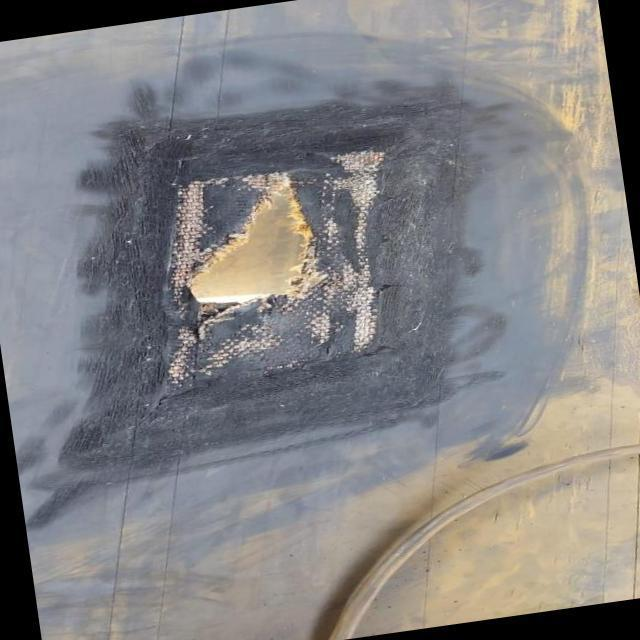Tear: (136, 133, 406, 417)
